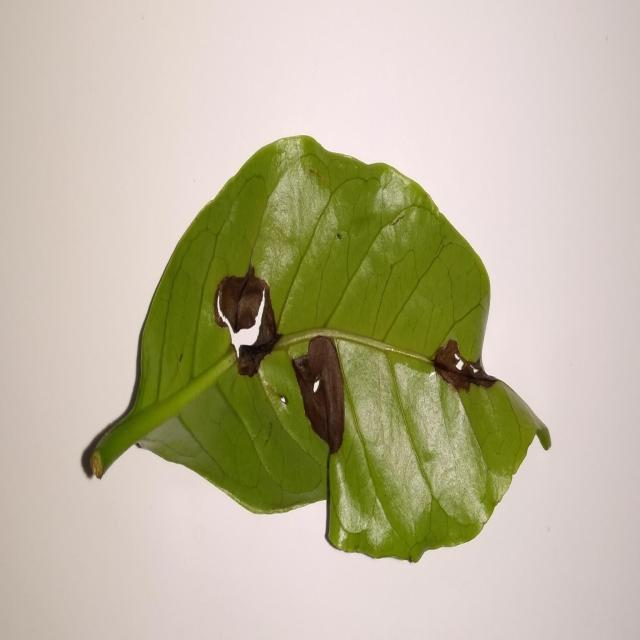Enfermedad-Antracnosis: (79, 135, 552, 567)
